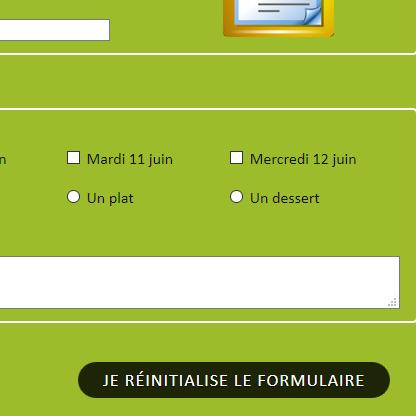button: (78, 361, 391, 399)
checkbox: (63, 149, 82, 165), (228, 149, 243, 164)
checkbox_with_label: (226, 148, 360, 167), (60, 148, 173, 167)
radio: (227, 188, 243, 205), (65, 189, 81, 205)
radio_with_label: (223, 185, 321, 207), (60, 185, 131, 207)
